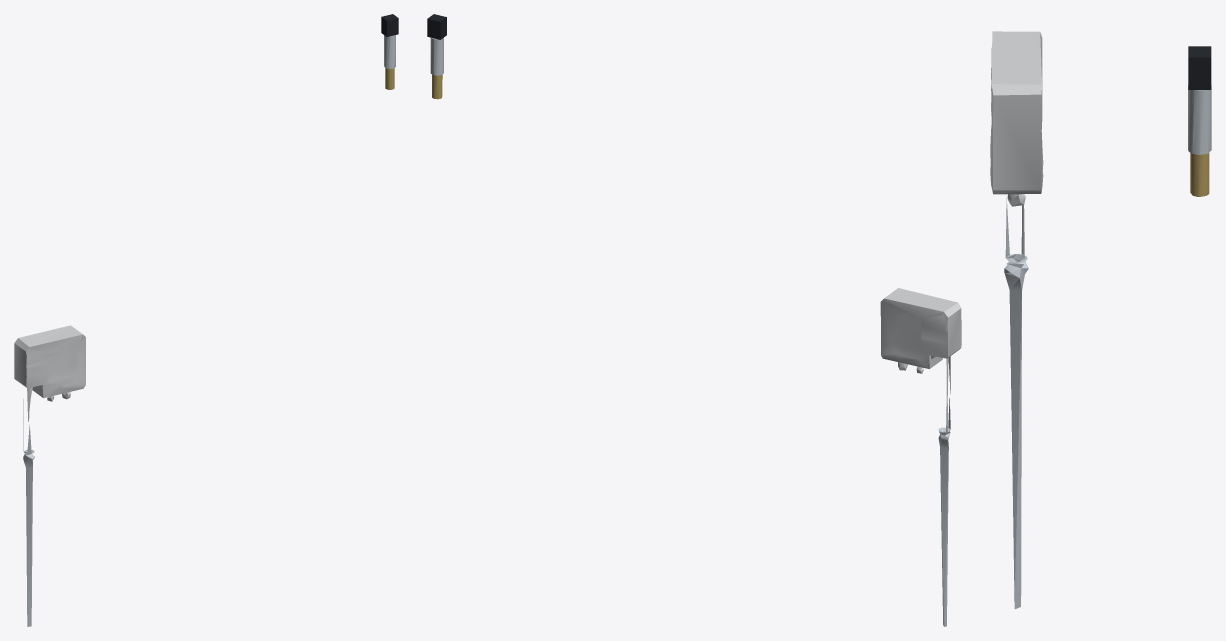
The model's file is trim-comfort.glb.
3 renders of one model, left to right at view 1: azimuth 30°, elevation 25°; view 2: azimuth 150°, elevation 25°; view 3: azimuth 270°, elevation 25°, orthographic. The views are drawn at different scales.
Visible parts, largest first — view 1: lcs600, pressure_transmitter; view 2: lcs600, pressure_transmitter; view 3: lcs600, pressure_transmitter.
Part boxes in pixels (x1=…): lcs600: x1=14, y1=325, x2=85, y2=626; pressure_transmitter: x1=381, y1=14, x2=398, y2=89; lcs600: x1=880, y1=288, x2=961, y2=626; pressure_transmitter: x1=427, y1=14, x2=446, y2=99; lcs600: x1=990, y1=31, x2=1043, y2=609; pressure_transmitter: x1=1188, y1=46, x2=1211, y2=196.
Bounding box in the file's own units: 1.23 × 1.33 × 0.2797.
